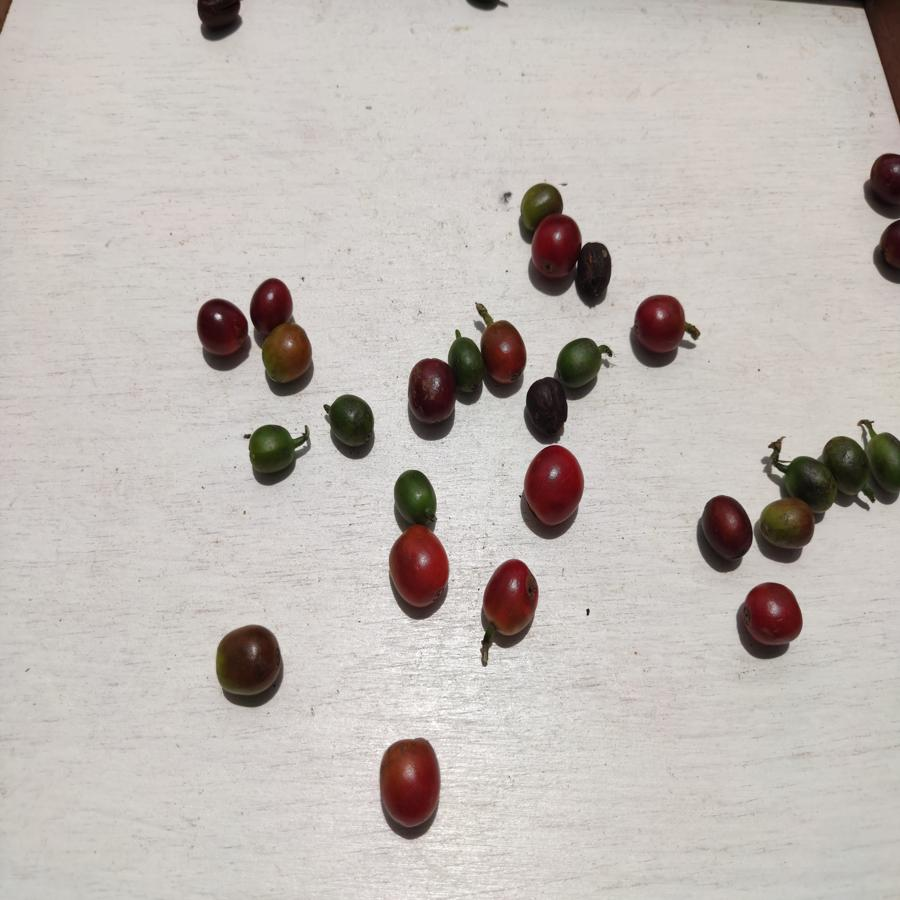Inmaduro: (244, 421, 299, 479), (320, 396, 380, 449), (389, 467, 443, 525), (785, 448, 836, 508), (557, 330, 606, 388), (824, 433, 866, 500), (450, 337, 488, 399), (865, 431, 900, 489)
Maduro: (378, 735, 447, 840), (519, 445, 586, 532), (740, 576, 811, 650), (481, 558, 541, 645), (389, 525, 450, 610), (631, 290, 686, 359), (531, 211, 578, 282), (483, 322, 528, 384)
Pinton: (207, 626, 289, 705), (257, 324, 321, 391), (697, 497, 754, 568), (759, 499, 814, 549), (519, 183, 564, 214)
Sobremaduro: (196, 300, 251, 359), (407, 359, 453, 426), (575, 240, 618, 301), (525, 379, 569, 437), (865, 146, 900, 217), (249, 277, 294, 320), (874, 218, 900, 277)
